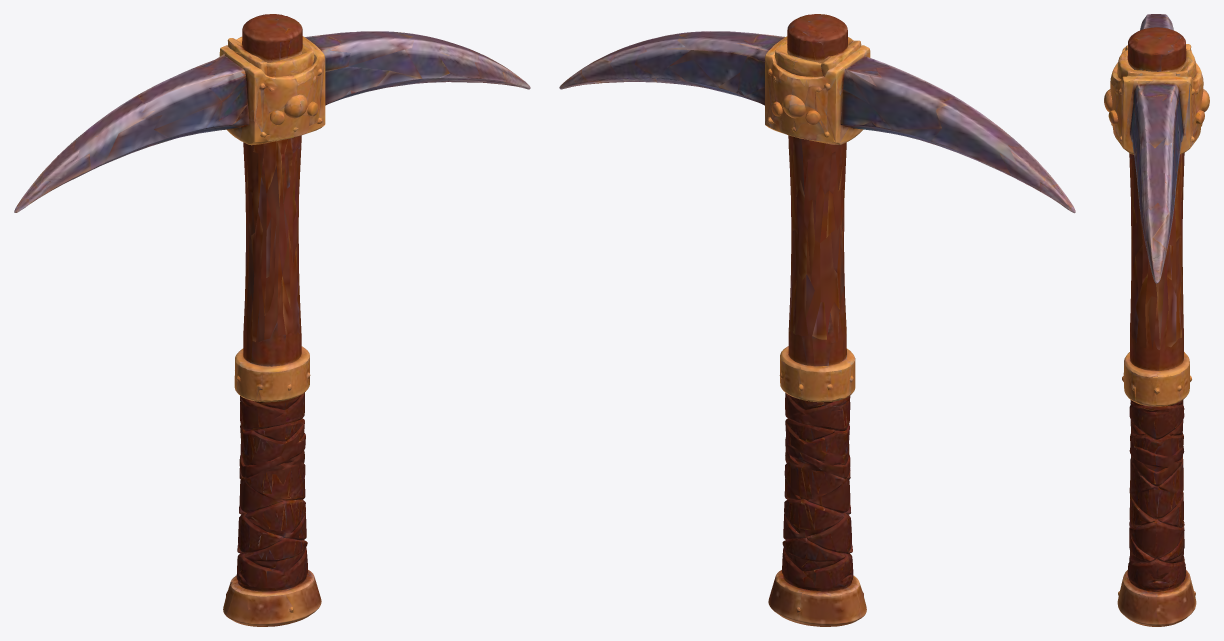
Rendered from pickaxe.glb.
3 views of the same model, side by side, from view 1: azimuth 30°, elevation 25°; view 2: azimuth 150°, elevation 25°; view 3: azimuth 270°, elevation 25° (orthographic). The views are drawn at different scales.
Size of the model in its own units: 1.72 by 1.9 by 0.315.
Materials: 1 (1 with a texture image).
